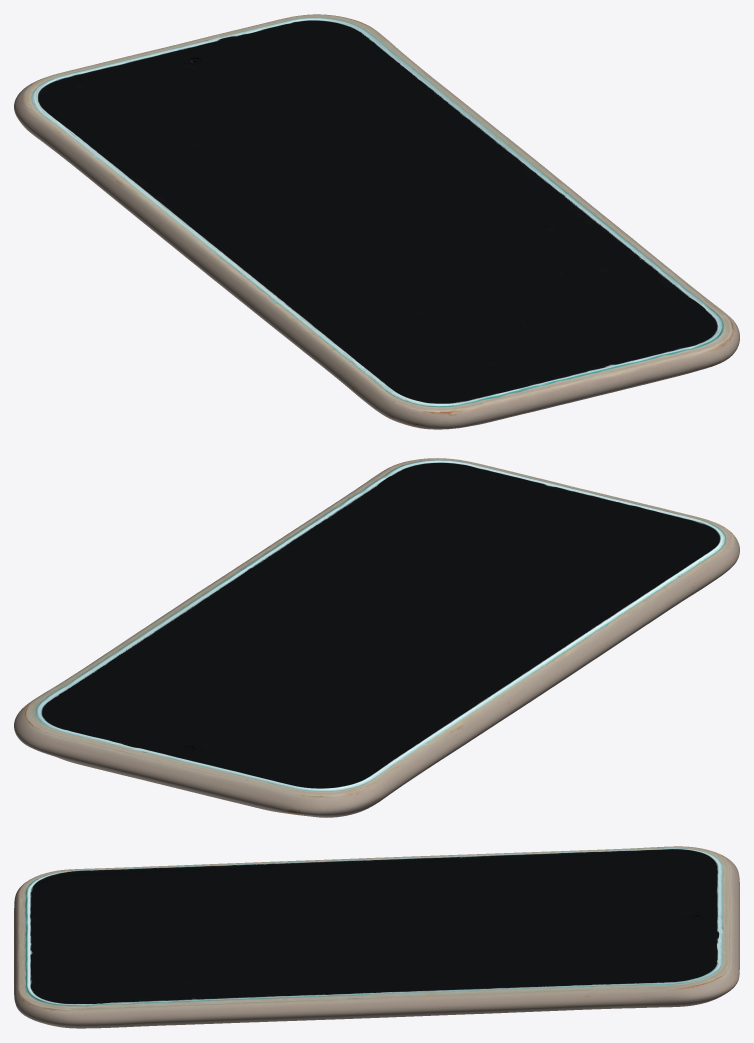
The model's file is phone.high.glb.
3 renders of one model, top to bottom at view 1: azimuth 30°, elevation 25°; view 2: azimuth 150°, elevation 25°; view 3: azimuth 270°, elevation 25°, orthographic. The views are drawn at different scales.
Parts seen in each view (by area): view 1: tripo_node_07d1b652-0d5b-485e-823b-987d156e292a; view 2: tripo_node_07d1b652-0d5b-485e-823b-987d156e292a; view 3: tripo_node_07d1b652-0d5b-485e-823b-987d156e292a.
Boxes of the visible parts, x1=… form: tripo_node_07d1b652-0d5b-485e-823b-987d156e292a: x1=14, y1=14, x2=739, y2=429; tripo_node_07d1b652-0d5b-485e-823b-987d156e292a: x1=14, y1=458, x2=739, y2=817; tripo_node_07d1b652-0d5b-485e-823b-987d156e292a: x1=14, y1=846, x2=739, y2=1028.
Bounding box in the file's own units: 0.075 × 0.012 × 0.155.
1 material, 1 textured.
